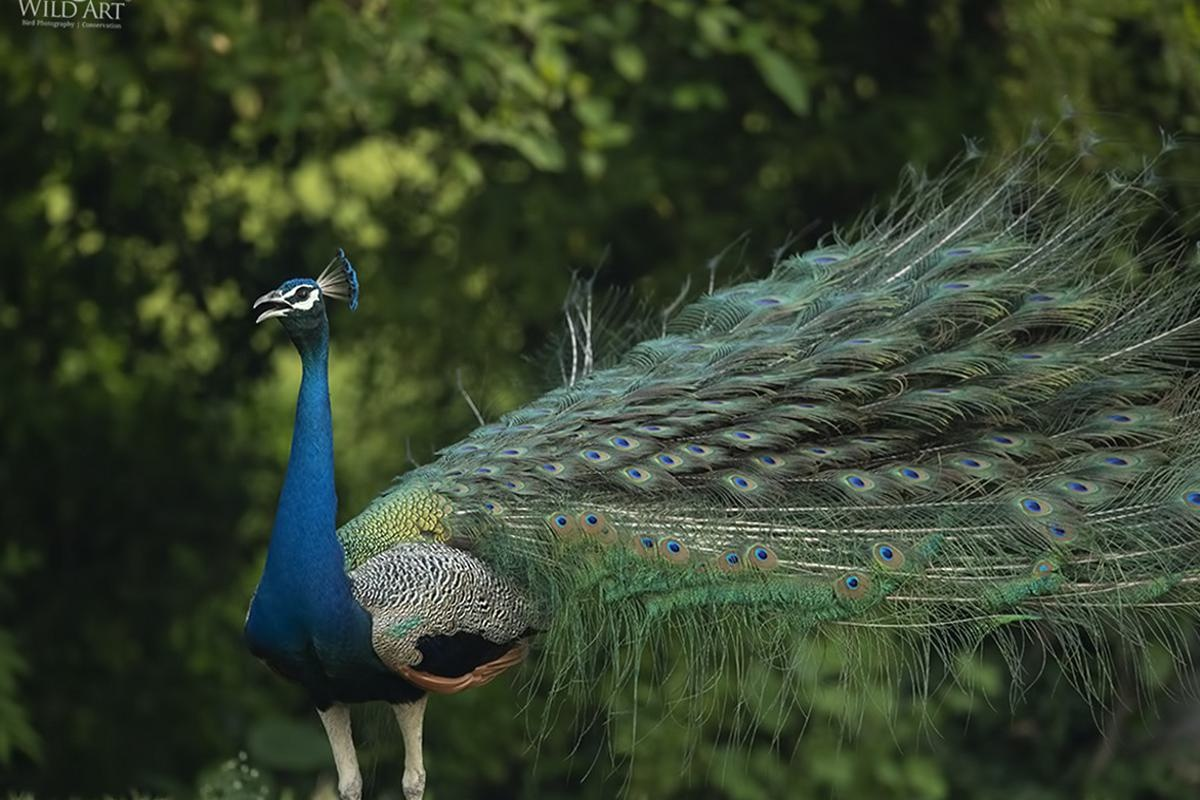peacock: (205, 196, 1139, 774)
